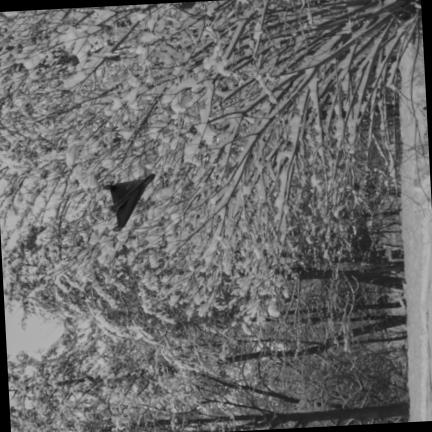Shahed: (107, 173, 153, 230)
